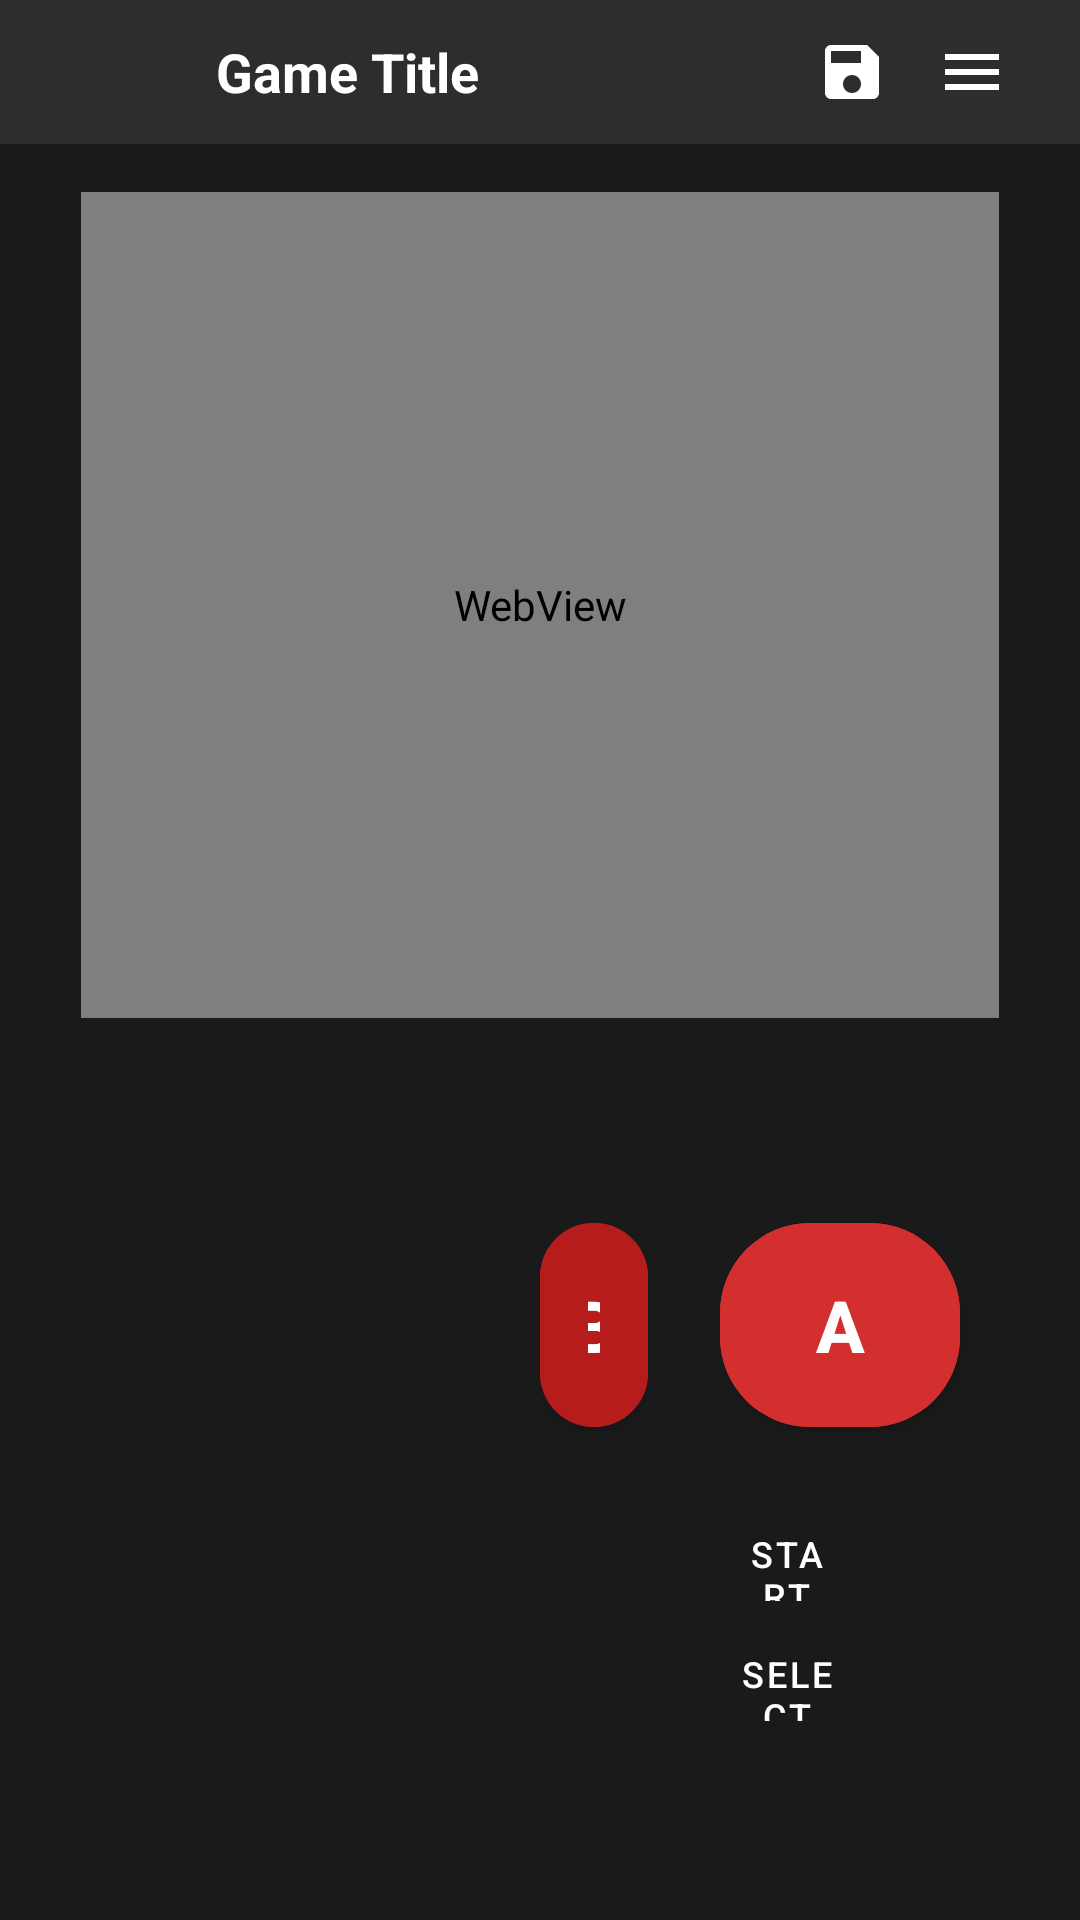

Icon bounding boxes for this 1080 × 1920 phone screenshot, format (x1, y1, x2, y2):
Menu: (945, 54, 999, 90)
Save State: (825, 45, 879, 99)
